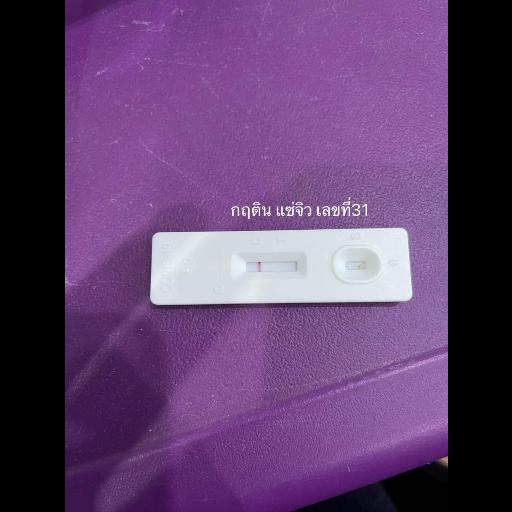Neg: (148, 229, 408, 303)
